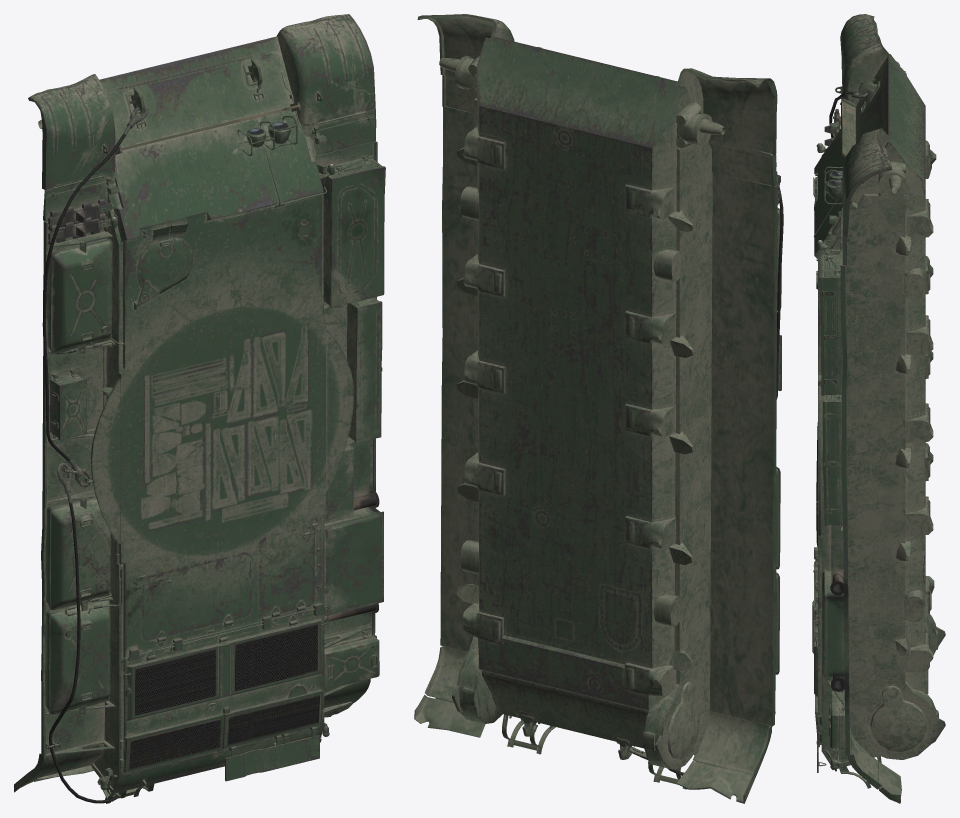
Rendered from Hull.glb.
3 views of the same model, side by side, from view 1: azimuth 30°, elevation 25°; view 2: azimuth 150°, elevation 25°; view 3: azimuth 270°, elevation 25° (orthographic). The views are drawn at different scales.
Parts seen in each view (by area): view 1: set_0_group_0; view 2: set_0_group_0; view 3: set_0_group_0.
Boxes of the visible parts, x1,y1,x2,y2 form: set_0_group_0: (14,14,385,803); set_0_group_0: (414,14,783,803); set_0_group_0: (812,14,945,803).
Size of the model in its own units: 3.32 by 6.86 by 1.25.
Materials: 1 (1 with a texture image).
